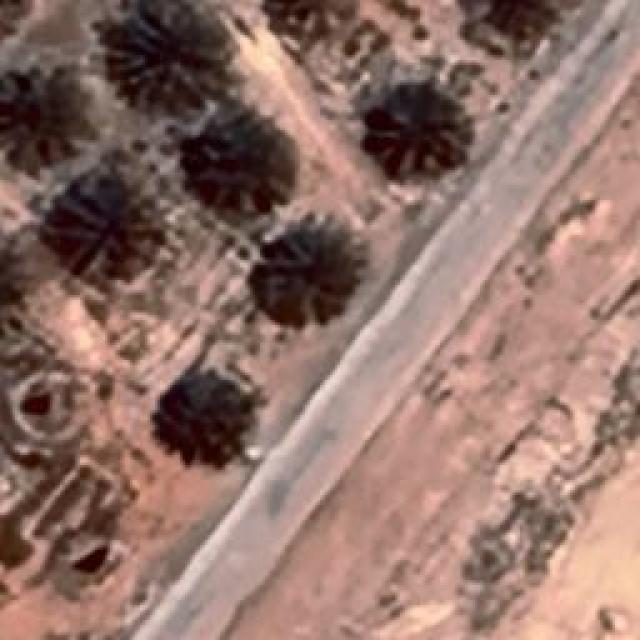PalmTree: (42, 17, 310, 108), (157, 366, 250, 464), (110, 7, 210, 95), (56, 172, 146, 266), (375, 85, 470, 173), (199, 123, 289, 200), (267, 236, 355, 314), (474, 0, 565, 38), (0, 234, 28, 340), (0, 230, 18, 338), (0, 0, 29, 43)
